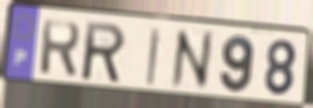8: (264, 39, 298, 98)
9: (218, 33, 257, 96)
I: (144, 26, 163, 88)
N: (170, 27, 215, 92)
R: (82, 20, 128, 86), (38, 18, 83, 80)
